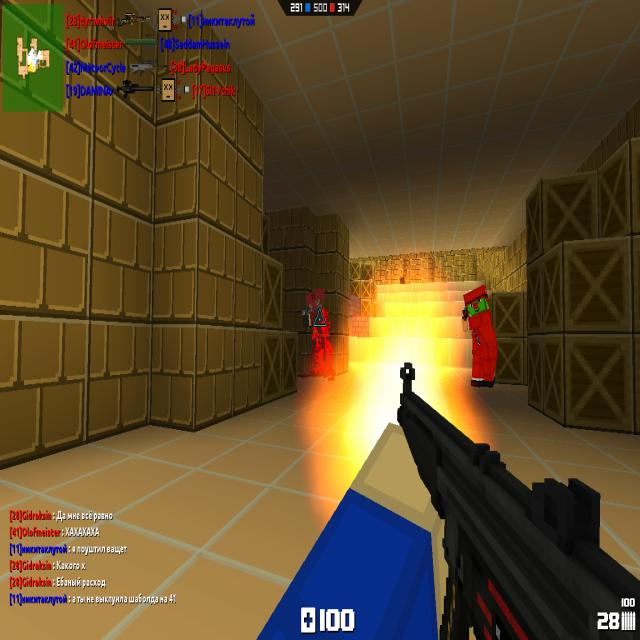enemy: (461, 283, 499, 387), (302, 286, 330, 378), (399, 276, 405, 284)
